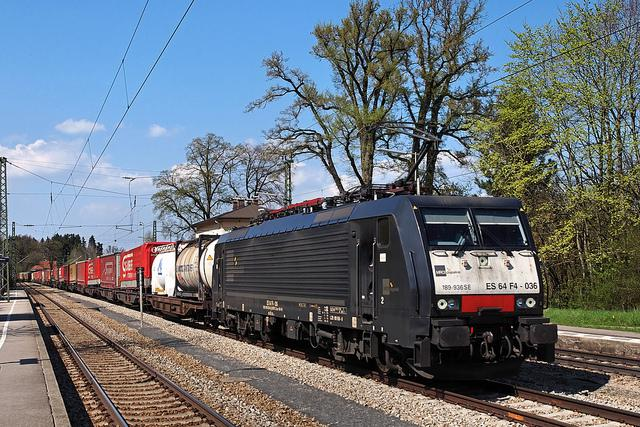Train: (32, 197, 564, 371)
